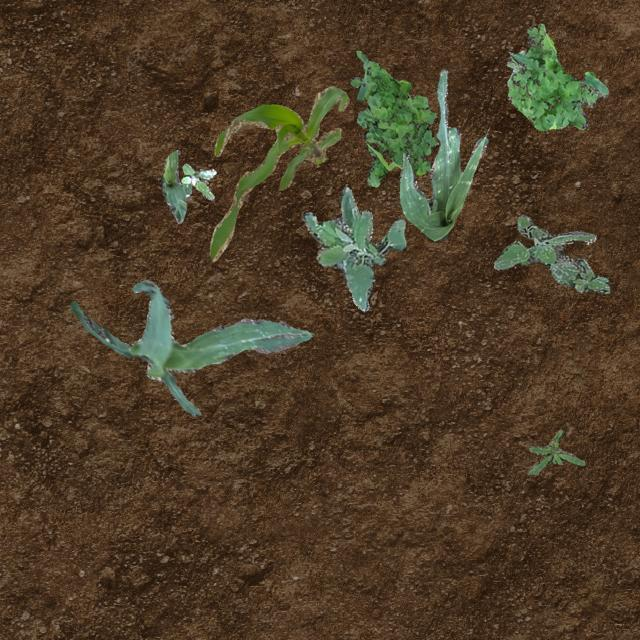crop: (68, 278, 312, 416), (208, 86, 348, 260), (398, 68, 486, 240), (160, 148, 186, 222)
weed: (300, 187, 404, 310), (348, 50, 438, 186), (507, 22, 608, 130), (492, 214, 608, 292), (526, 428, 584, 474), (180, 162, 214, 198), (506, 50, 524, 90)
